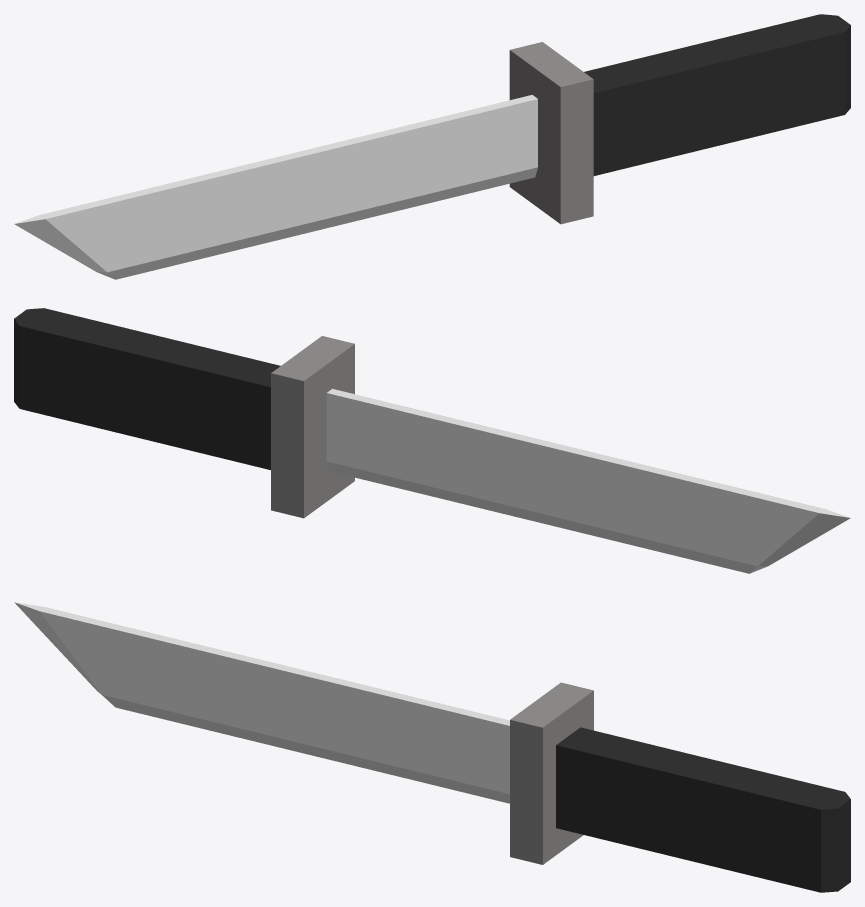
The model's file is pisau.fbx.
The picture shows the model from 3 angles, top to bottom: view 1: azimuth 30°, elevation 25°; view 2: azimuth 150°, elevation 25°; view 3: azimuth 330°, elevation 25°; orthographic projection.
Visible parts, largest first — view 1: Cube.002, Cube, Cube.001; view 2: Cube.002, Cube, Cube.001; view 3: Cube.002, Cube, Cube.001.
Part boxes in pixels (x1=…): Cube.002: x1=14, y1=95, x2=537, y2=279; Cube: x1=584, y1=14, x2=850, y2=175; Cube.001: x1=509, y1=42, x2=593, y2=224; Cube.002: x1=326, y1=389, x2=850, y2=573; Cube: x1=14, y1=308, x2=280, y2=469; Cube.001: x1=271, y1=336, x2=354, y2=518; Cube.002: x1=14, y1=602, x2=509, y2=803; Cube: x1=556, y1=727, x2=850, y2=892; Cube.001: x1=510, y1=682, x2=593, y2=864.
Bounding box in the file's own units: 372 × 58.72 × 39.56.
3 materials, 3 textured.
